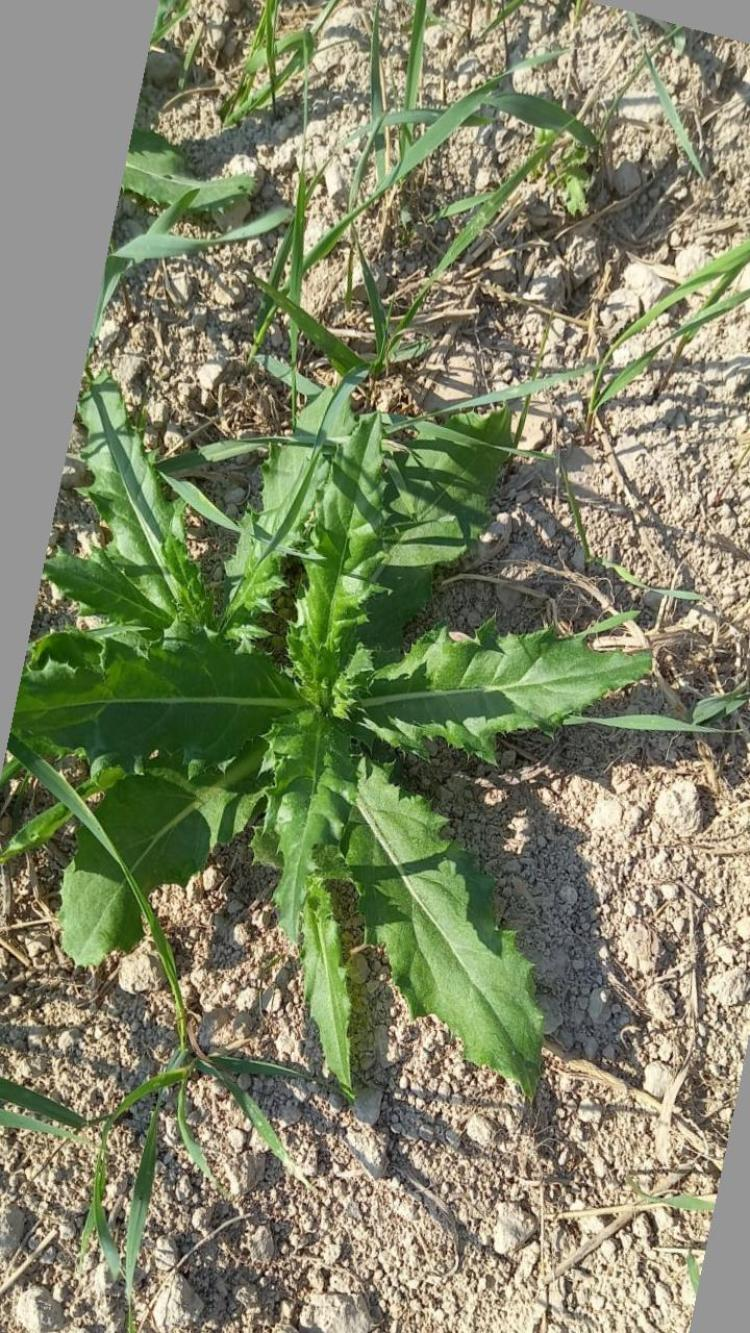osot: (8, 377, 654, 1102)
